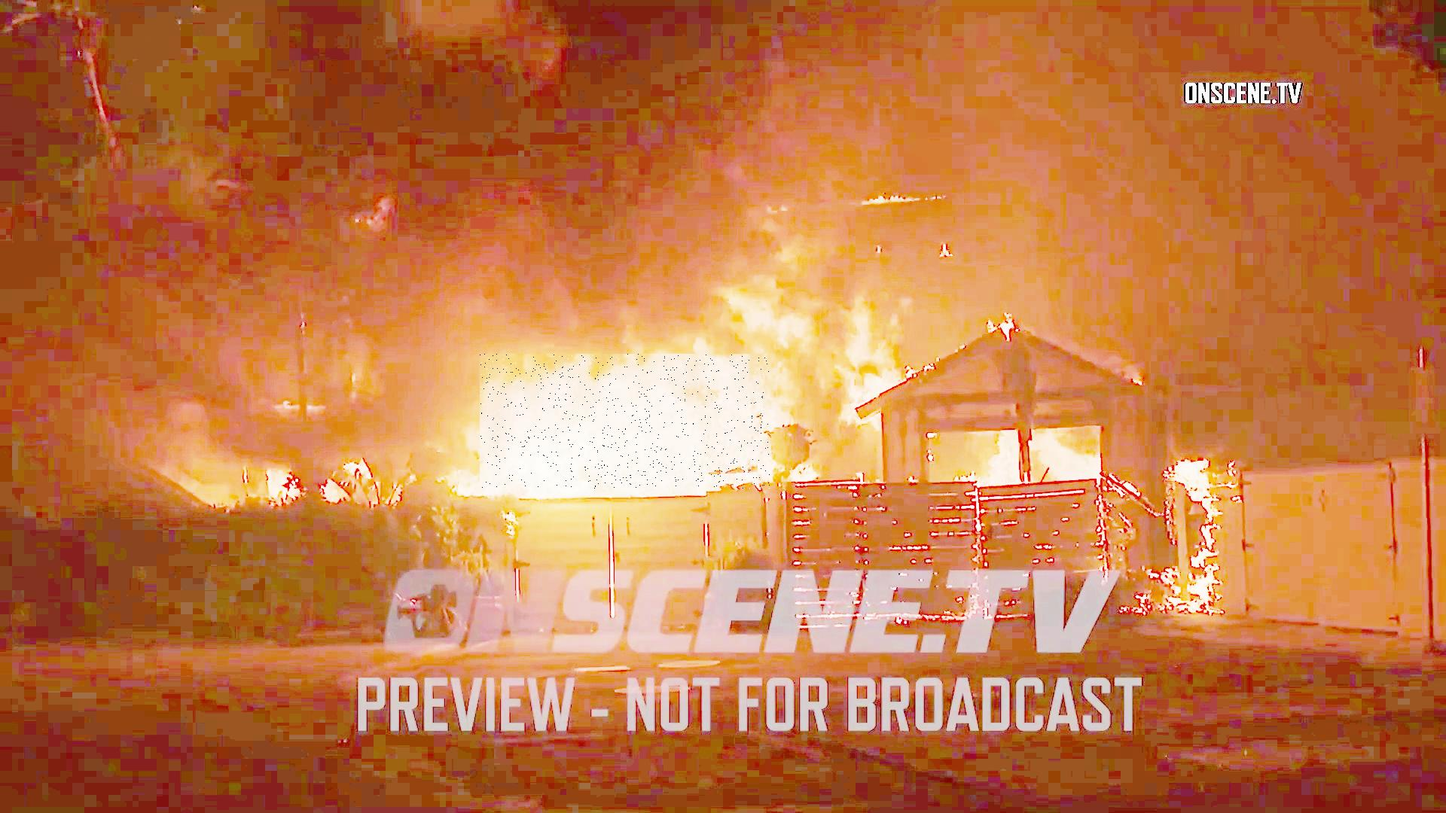fire: (480, 354, 770, 489)
